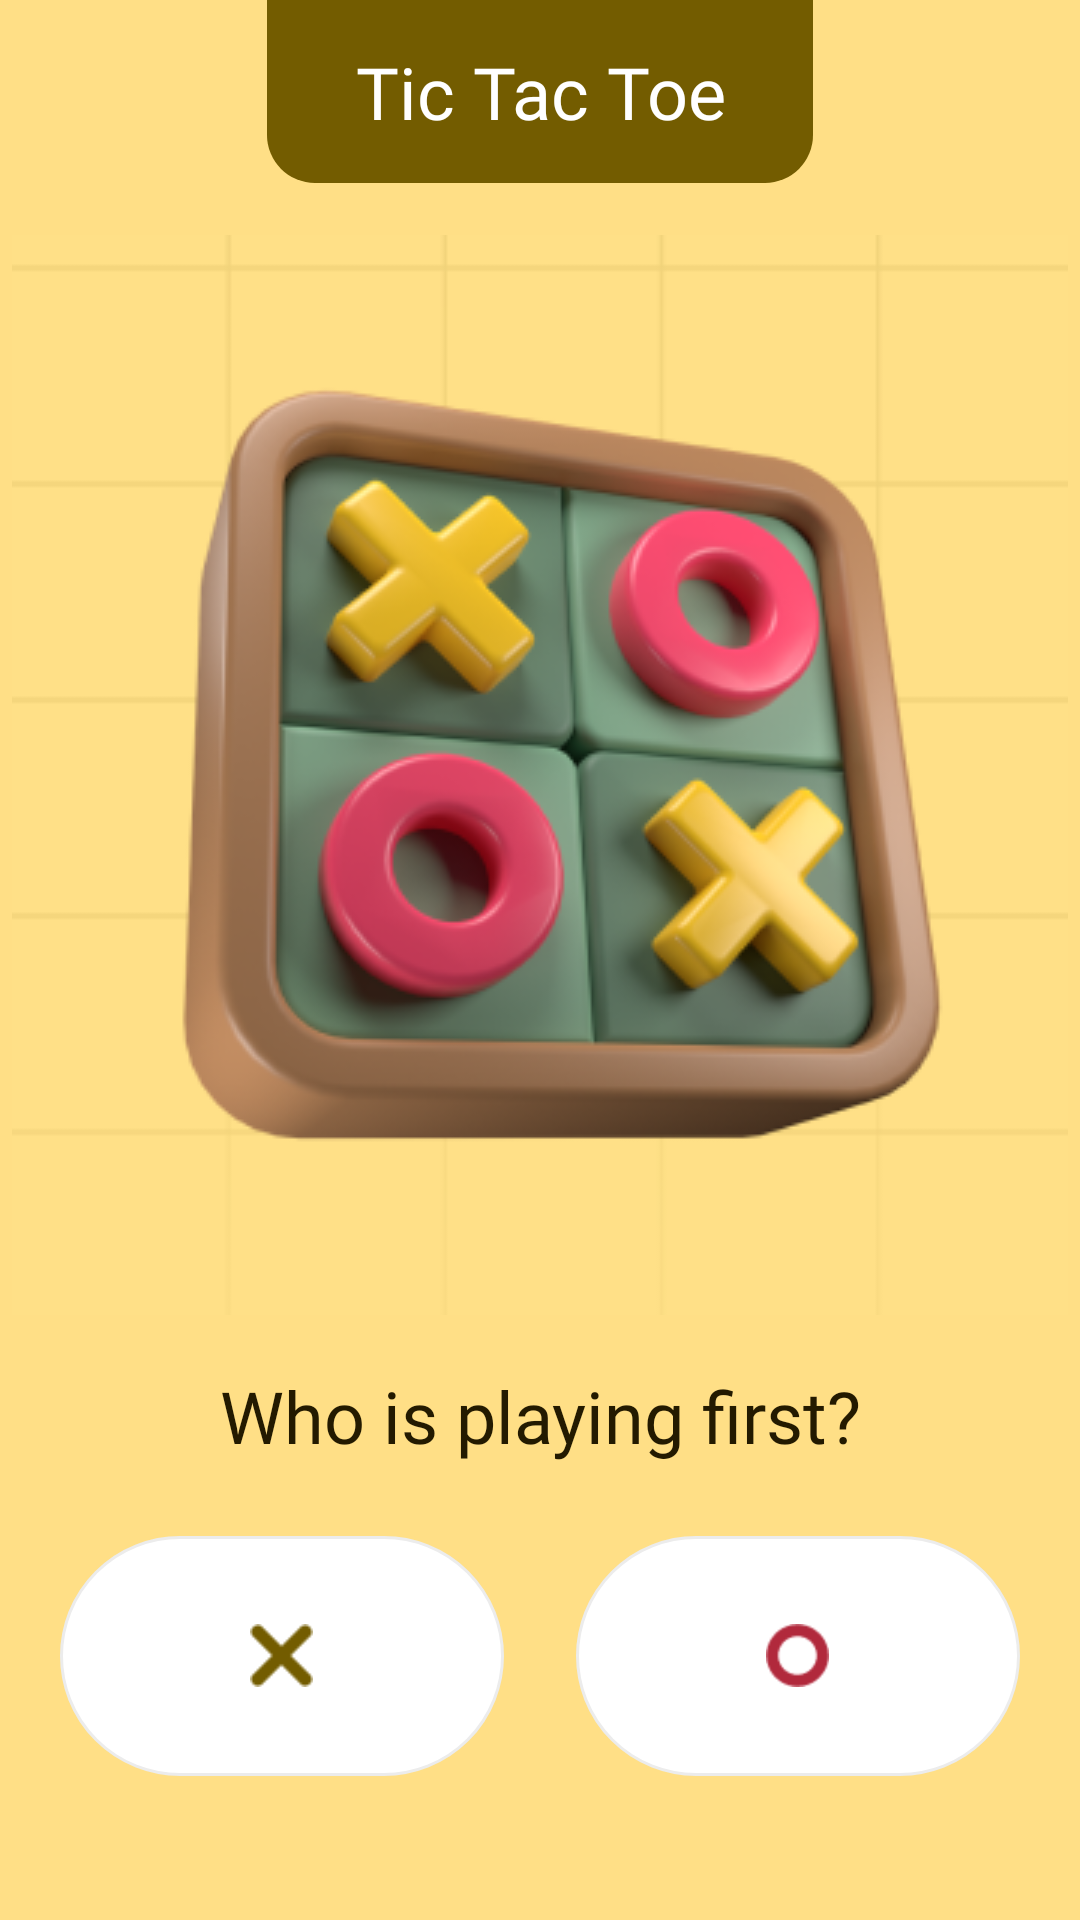

Where to tap for icons on this 1080×1920 app screen, as (x=x, y=y):
zero: (x=797, y=1655)
